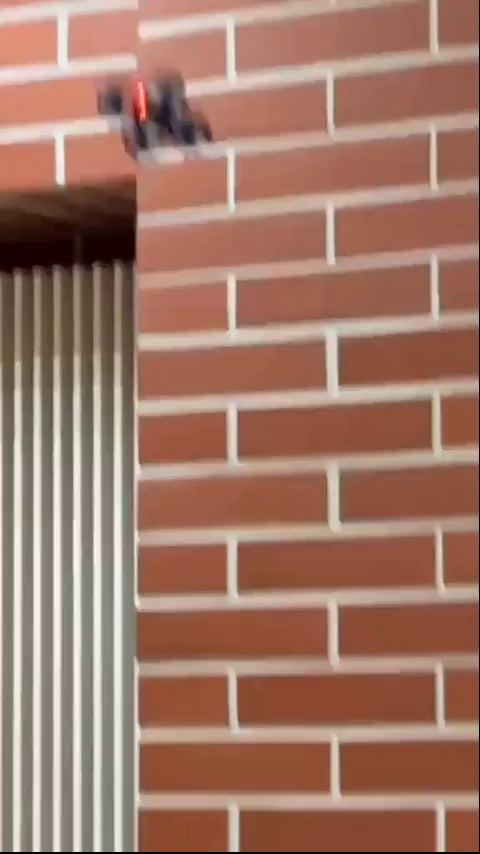drone: (100, 75, 223, 162)
